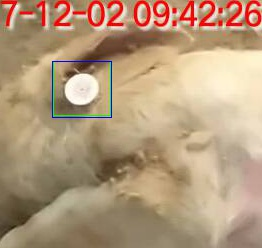text: (53, 61, 110, 115)
